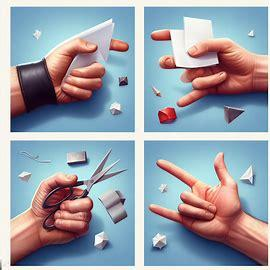Stone: (38, 32, 110, 107)
